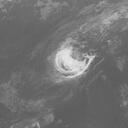cyclone: (55, 48, 92, 79)
